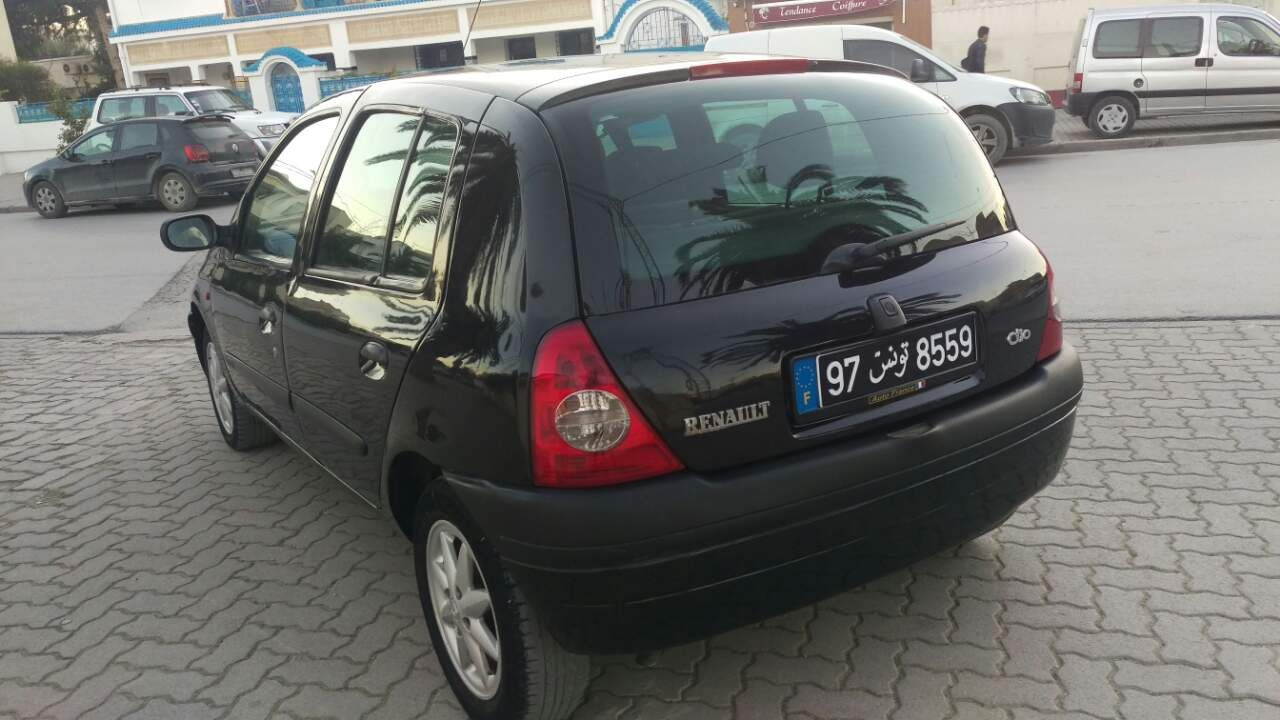LP: (815, 311, 990, 408)
